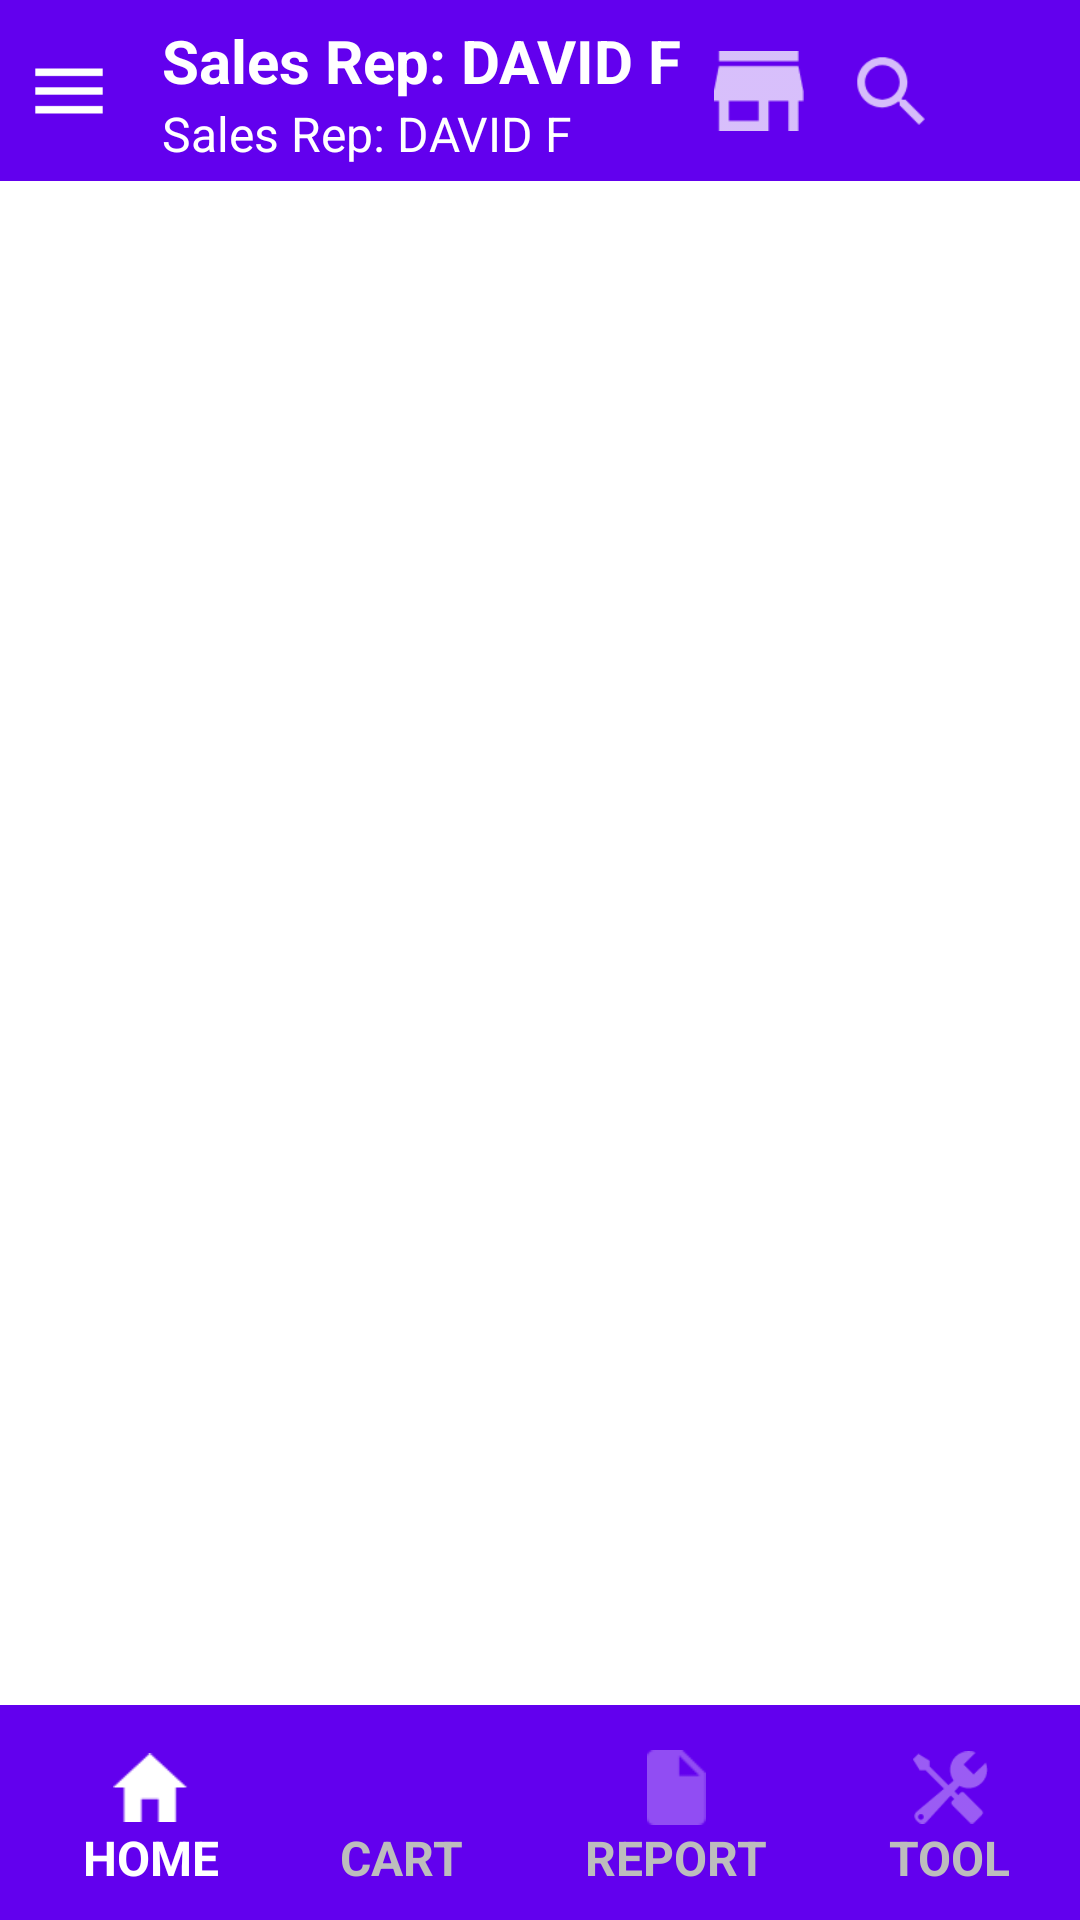

Icons on this 1080px×1920px Android screen, each with the point to tap as (x,y):
documentlight: (676,1787)
menu: (69,91)
search: (891,91)
store: (759,91)
